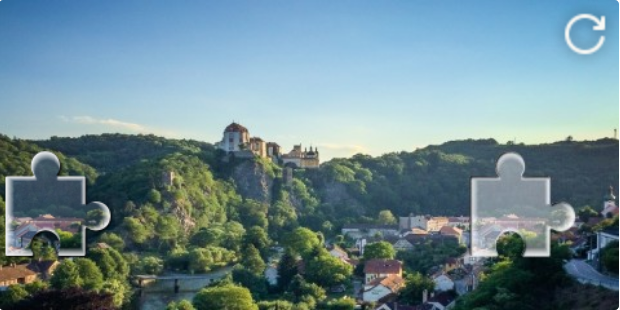target: (471, 152, 575, 258)
